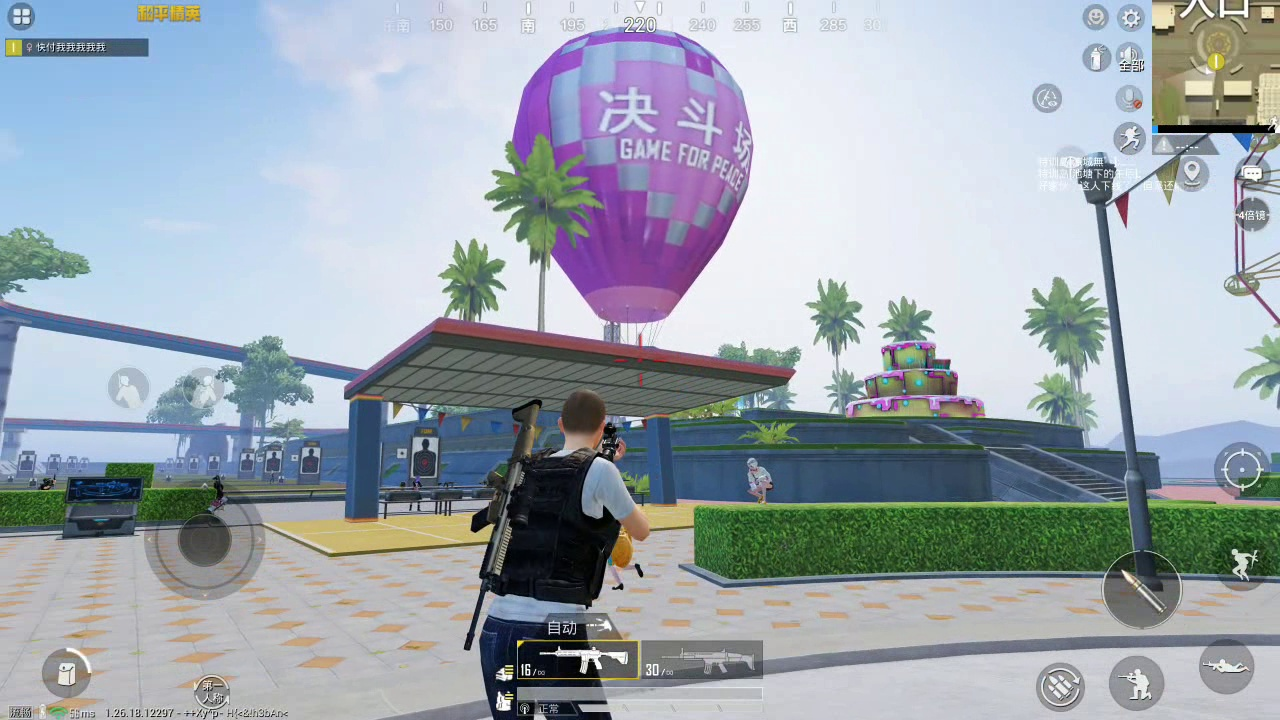enemy: (604, 510, 643, 595), (743, 454, 775, 504), (211, 472, 228, 512), (409, 473, 422, 513), (37, 474, 58, 491)
